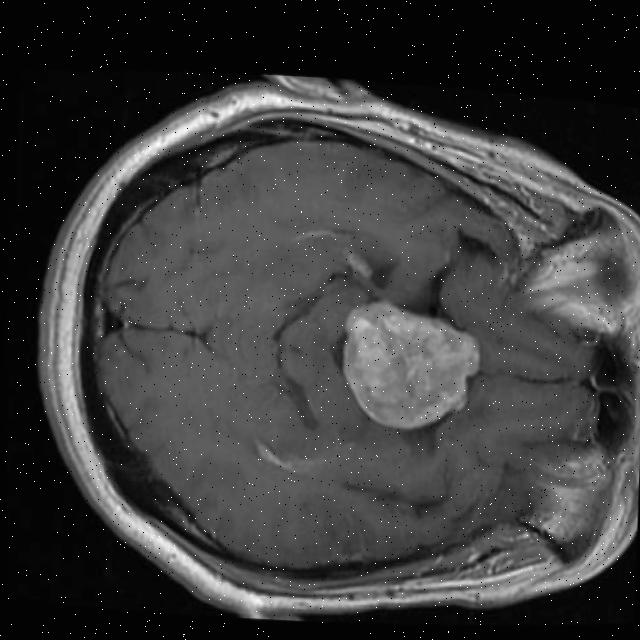Pituitary: (337, 296, 484, 435)
